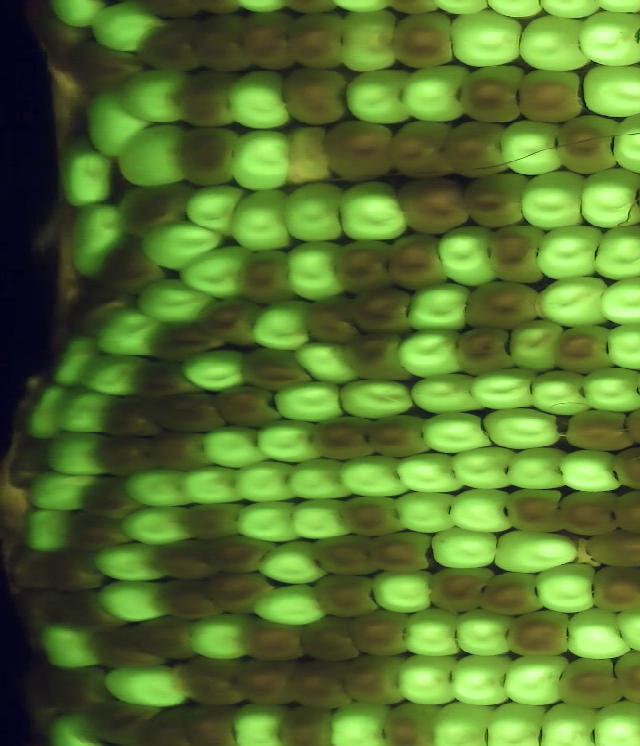fluorescent: (77, 86, 151, 166), (64, 197, 132, 283), (396, 61, 479, 129), (223, 183, 300, 256), (112, 122, 193, 190), (171, 240, 257, 304), (99, 659, 193, 717), (339, 65, 420, 132), (447, 7, 531, 71), (489, 115, 569, 182), (513, 11, 596, 75), (137, 215, 225, 275), (133, 272, 222, 331), (113, 66, 195, 130), (336, 176, 412, 245), (55, 133, 122, 211), (277, 177, 351, 247), (515, 168, 595, 232), (223, 64, 295, 135), (431, 218, 502, 290), (490, 526, 585, 579), (335, 2, 401, 77), (533, 220, 610, 284), (574, 160, 640, 233), (89, 573, 179, 626), (389, 325, 473, 381), (534, 272, 615, 330), (28, 618, 105, 679), (225, 125, 293, 194), (477, 403, 570, 453), (282, 237, 349, 306), (86, 1, 168, 57), (561, 603, 635, 665), (401, 367, 489, 419), (269, 375, 353, 429), (245, 581, 333, 632), (92, 304, 172, 360), (113, 501, 204, 550), (531, 559, 605, 619), (252, 536, 334, 590), (424, 523, 507, 576), (392, 649, 465, 709), (463, 366, 547, 418), (448, 649, 516, 713), (182, 179, 251, 242), (250, 413, 332, 466), (399, 279, 475, 336), (334, 372, 419, 422), (396, 604, 469, 662), (416, 408, 499, 459), (289, 339, 367, 393), (40, 426, 116, 481), (367, 567, 443, 622), (244, 296, 317, 353), (23, 466, 107, 515), (117, 464, 201, 513), (447, 484, 521, 539), (332, 451, 415, 500), (448, 441, 523, 495), (555, 445, 630, 499), (87, 539, 171, 587), (575, 7, 640, 69), (580, 59, 640, 126), (503, 316, 570, 376), (184, 608, 252, 667), (387, 487, 464, 539), (501, 652, 571, 709), (75, 349, 154, 399), (197, 420, 272, 472), (281, 455, 357, 506), (225, 499, 305, 547), (13, 504, 84, 557), (228, 458, 303, 508), (449, 605, 518, 659), (501, 443, 571, 496), (173, 462, 248, 511), (393, 448, 466, 498), (285, 495, 357, 545), (575, 364, 640, 419), (174, 348, 253, 393), (529, 699, 604, 746), (426, 698, 499, 746), (481, 696, 551, 746), (525, 367, 592, 419), (323, 698, 394, 746), (590, 220, 640, 286), (21, 382, 71, 444), (225, 697, 286, 746), (48, 332, 97, 389), (587, 698, 640, 746), (597, 271, 640, 328), (39, 709, 99, 746), (601, 319, 640, 375), (609, 109, 640, 179), (45, 1, 108, 31), (610, 600, 640, 659)
nonfluorescent: (392, 172, 477, 239), (380, 116, 461, 186), (318, 116, 400, 185), (456, 276, 554, 333), (376, 225, 456, 294), (551, 109, 630, 178), (91, 234, 174, 299), (113, 177, 199, 238), (334, 326, 417, 389), (440, 116, 518, 183), (82, 621, 172, 679), (279, 62, 352, 132), (170, 120, 245, 188), (65, 38, 145, 101), (456, 169, 536, 232), (59, 279, 136, 344), (284, 654, 360, 719), (138, 389, 236, 439), (168, 653, 251, 712), (235, 8, 307, 76), (169, 67, 241, 135), (326, 234, 401, 299), (186, 9, 255, 78), (484, 220, 552, 290), (514, 66, 590, 128), (25, 11, 96, 77), (282, 9, 353, 75), (455, 62, 524, 129), (235, 342, 320, 396), (125, 610, 204, 667), (502, 605, 577, 665), (336, 650, 411, 710), (391, 9, 463, 71), (561, 403, 640, 459), (303, 410, 382, 466), (189, 292, 266, 349), (145, 576, 229, 628), (135, 14, 203, 78), (48, 585, 130, 637), (232, 613, 314, 665), (555, 654, 628, 712), (144, 317, 227, 368), (231, 246, 298, 309), (553, 484, 626, 541), (206, 380, 286, 432), (330, 489, 410, 541), (148, 532, 225, 586), (44, 662, 121, 716), (196, 568, 277, 619), (6, 585, 65, 655), (60, 504, 135, 559), (345, 282, 417, 339), (448, 323, 521, 379), (228, 654, 301, 710), (501, 484, 575, 539), (549, 323, 622, 378), (426, 563, 500, 617), (293, 610, 363, 667), (345, 604, 416, 660), (310, 571, 385, 624), (195, 532, 276, 581), (41, 545, 113, 599), (80, 698, 161, 746), (142, 426, 218, 477), (125, 356, 205, 404), (79, 471, 150, 525), (360, 527, 436, 577), (304, 530, 381, 579), (3, 540, 68, 598), (363, 409, 434, 462), (84, 432, 158, 482), (476, 569, 547, 620), (175, 499, 250, 545), (299, 294, 364, 347), (88, 394, 159, 442), (175, 697, 244, 746), (584, 559, 640, 619), (380, 697, 447, 746), (275, 701, 339, 746), (19, 654, 65, 716), (582, 526, 640, 573), (134, 701, 193, 746), (9, 431, 55, 479), (604, 485, 640, 541), (605, 443, 640, 496)
